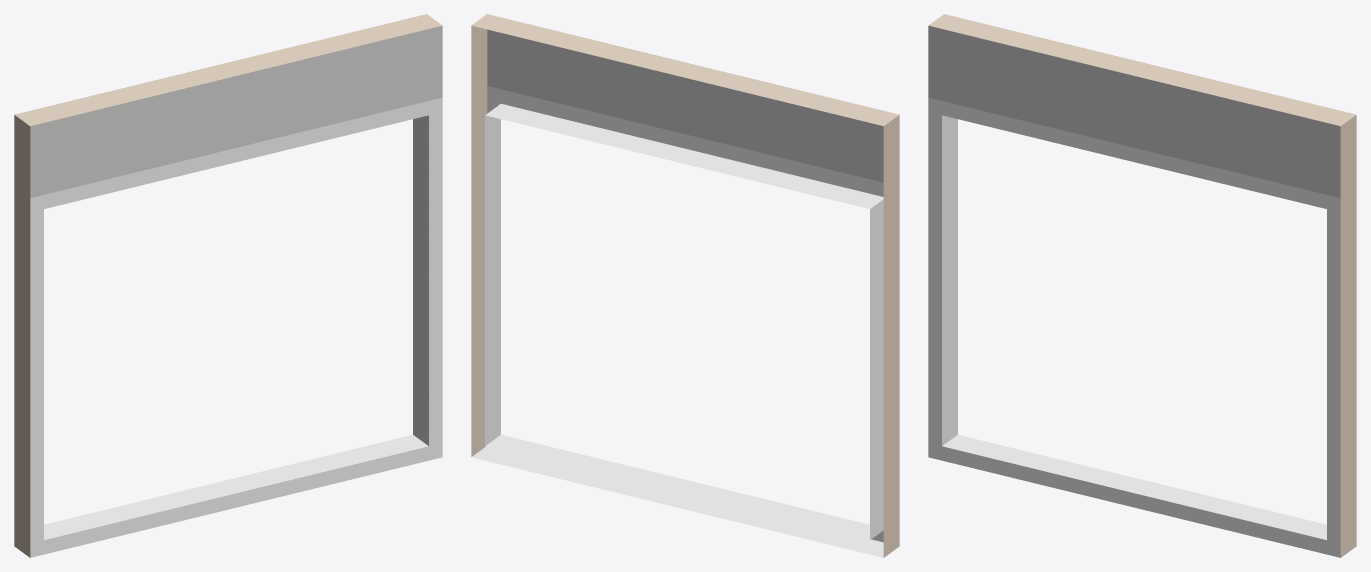
The model's file is house-wall-door-garage.glb.
The picture shows the model from 3 angles, left to right: view 1: azimuth 30°, elevation 25°; view 2: azimuth 150°, elevation 25°; view 3: azimuth 330°, elevation 25°; orthographic projection.
Parts seen in each view (by area): view 1: house-wall-door-garage; view 2: house-wall-door-garage; view 3: house-wall-door-garage.
Boxes of the visible parts, x1=… form: house-wall-door-garage: x1=14, y1=14, x2=442, y2=557; house-wall-door-garage: x1=471, y1=14, x2=899, y2=557; house-wall-door-garage: x1=928, y1=14, x2=1356, y2=557.
Bounding box in the file's own units: 3 × 3 × 0.2.
1 material, 1 textured.
